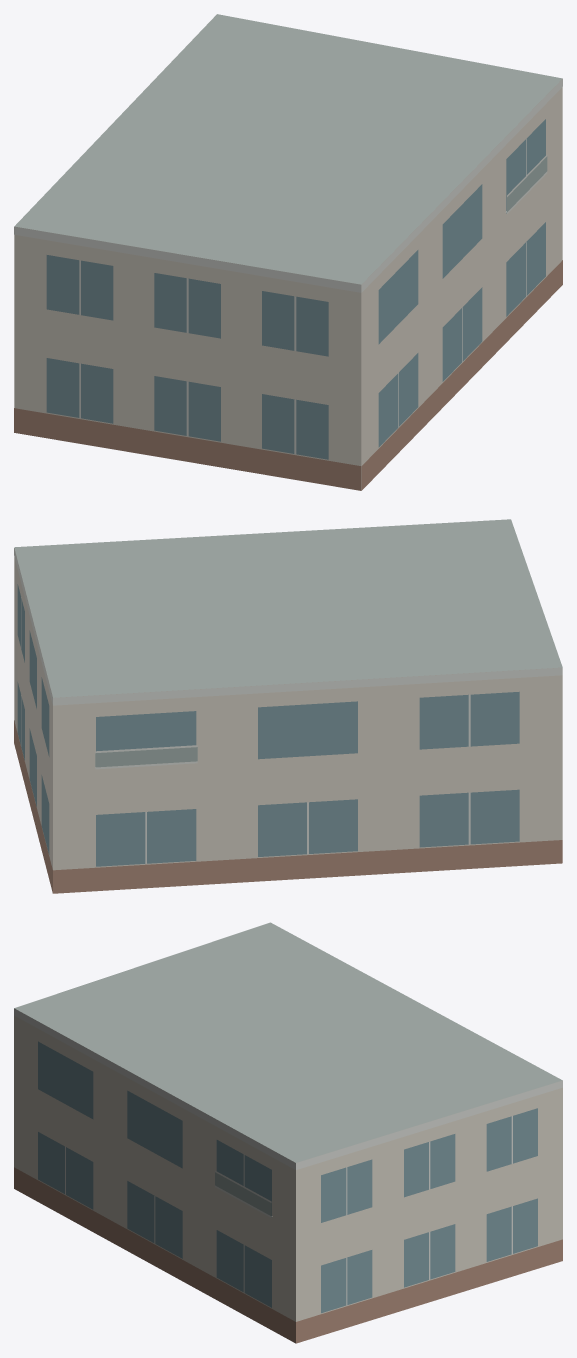
The model's file is survey-upis-32777941.glb.
The picture shows the model from 3 angles, top to bottom: view 1: azimuth 30°, elevation 25°; view 2: azimuth 150°, elevation 25°; view 3: azimuth 270°, elevation 25°; orthographic projection. The views are drawn at different scales.
Visible parts, largest first — view 1: survey-upis-32777941.tmp; view 2: survey-upis-32777941.tmp; view 3: survey-upis-32777941.tmp.
Boxes of the visible parts, bbox=[...] form: survey-upis-32777941.tmp: bbox=[14, 14, 562, 490]; survey-upis-32777941.tmp: bbox=[14, 519, 562, 893]; survey-upis-32777941.tmp: bbox=[14, 922, 562, 1343].
Bounding box in the file's own units: 17.44 × 6.1 × 16.81.
